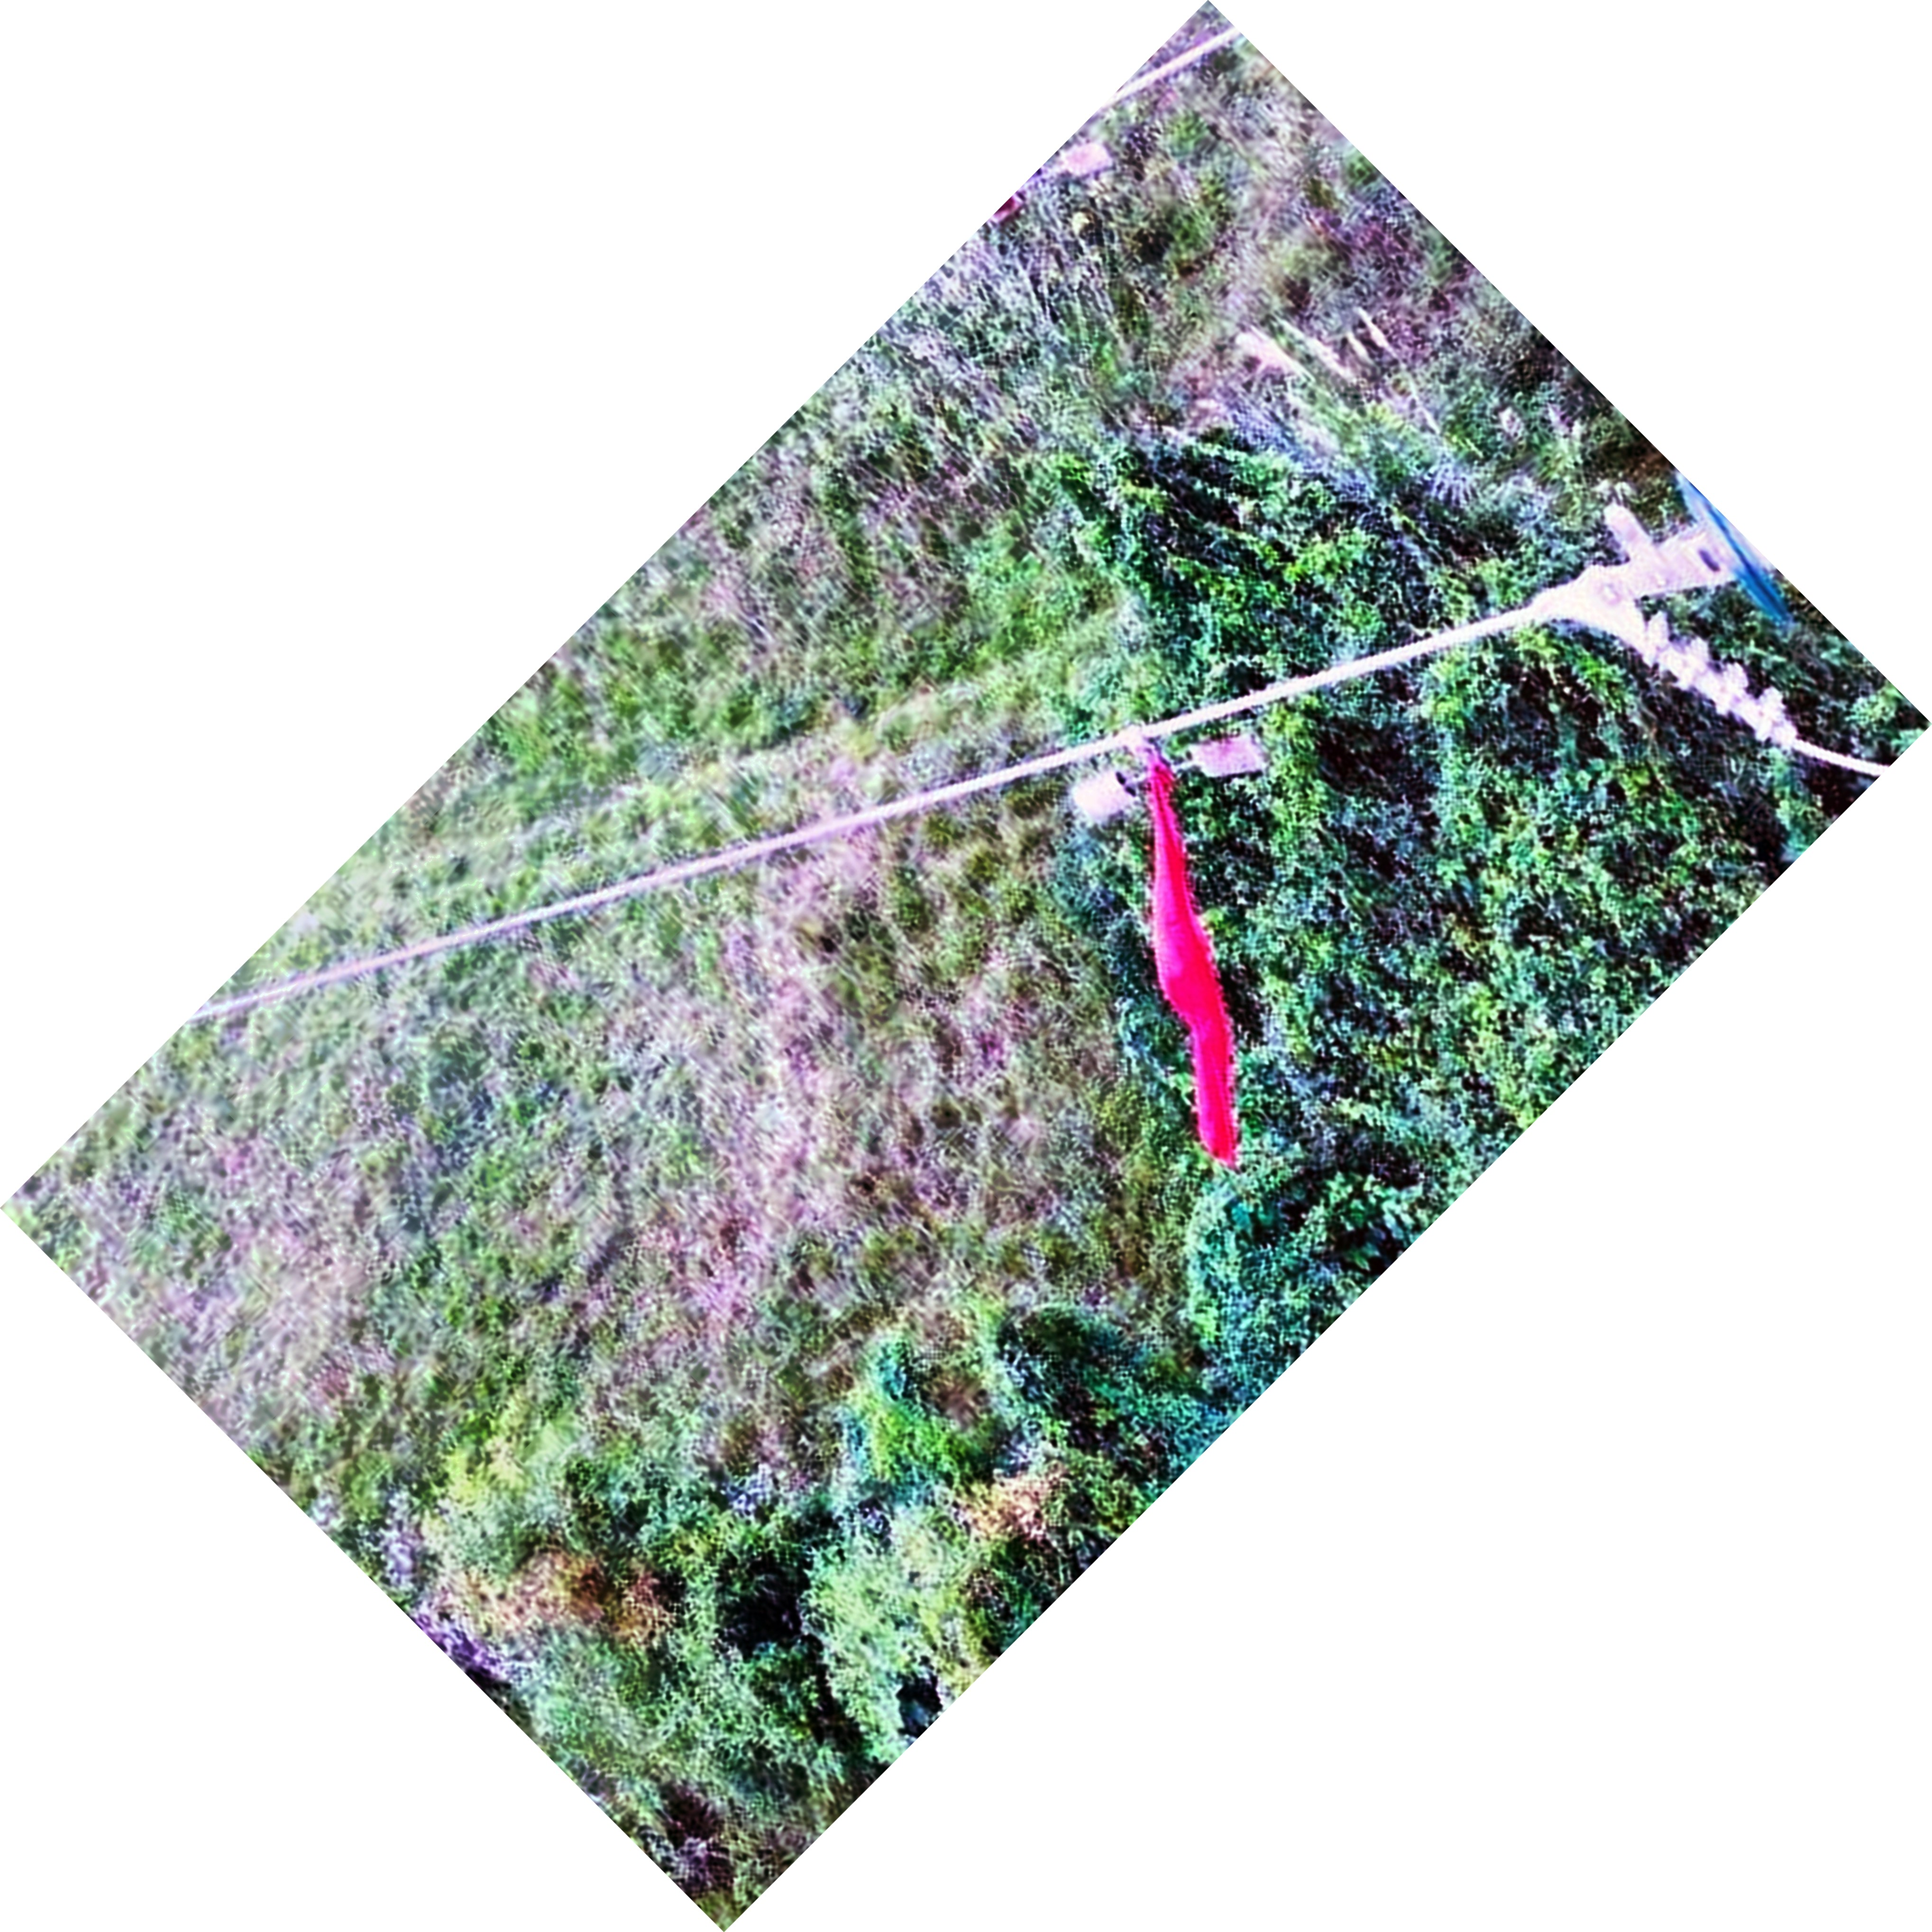wire foreign body: (1081, 717, 1302, 1196)
